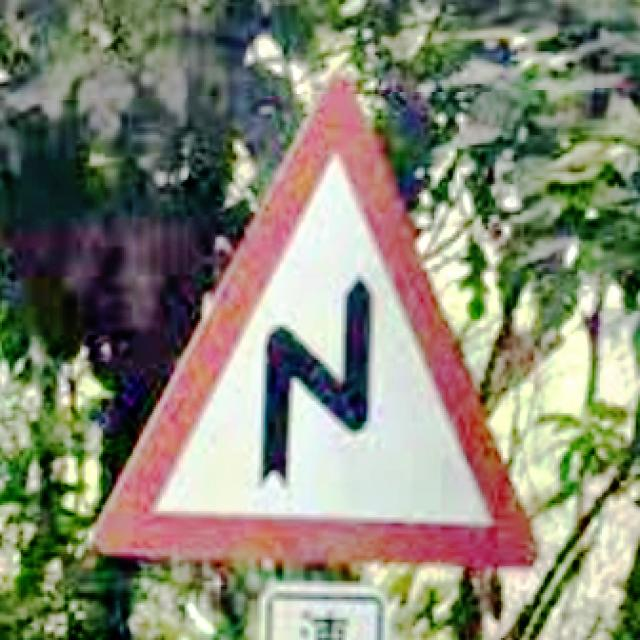doublebendright: (90, 74, 539, 570)
